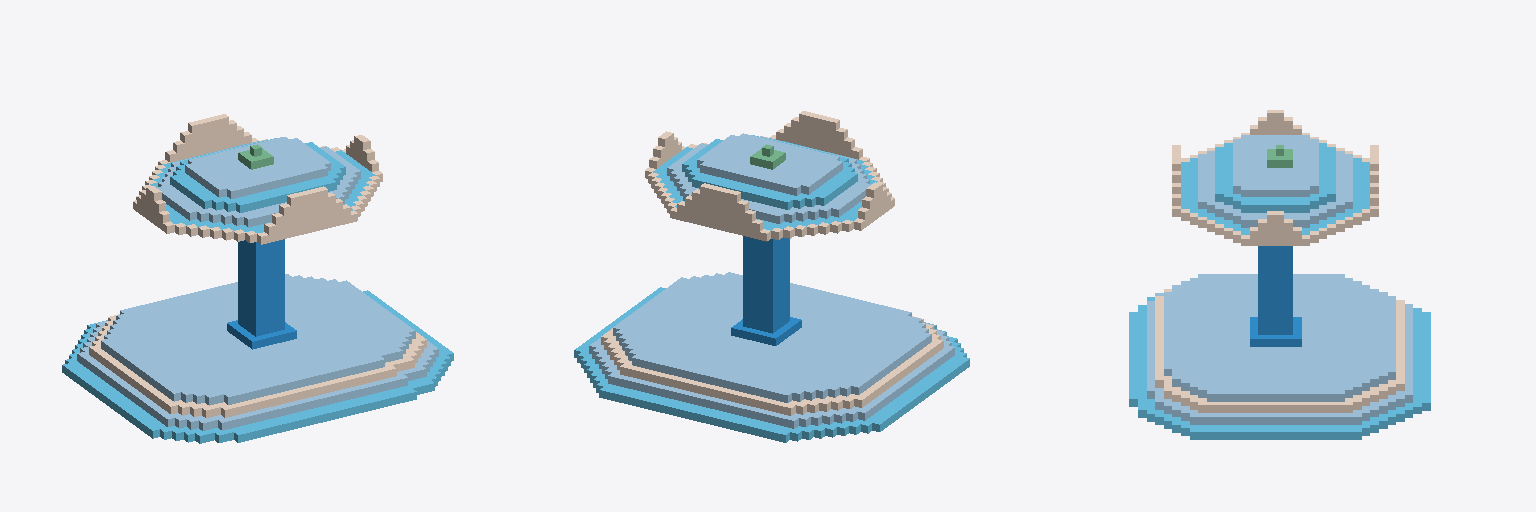
The picture shows the model from 3 angles: view 1: azimuth 30°, elevation 25°; view 2: azimuth 150°, elevation 25°; view 3: azimuth 270°, elevation 25°; orthographic projection.
Parts seen in each view (by area): view 1: object 1; view 2: object 1; view 3: object 1.
Boxes of the visible parts, box(x1,y1,x2,y2) form: object 1: box(62, 114, 453, 443); object 1: box(574, 111, 969, 442); object 1: box(1129, 110, 1430, 439).
Size of the model in its own units: 4.1 by 2.8 by 3.5.
Materials: 1 (1 with a texture image).